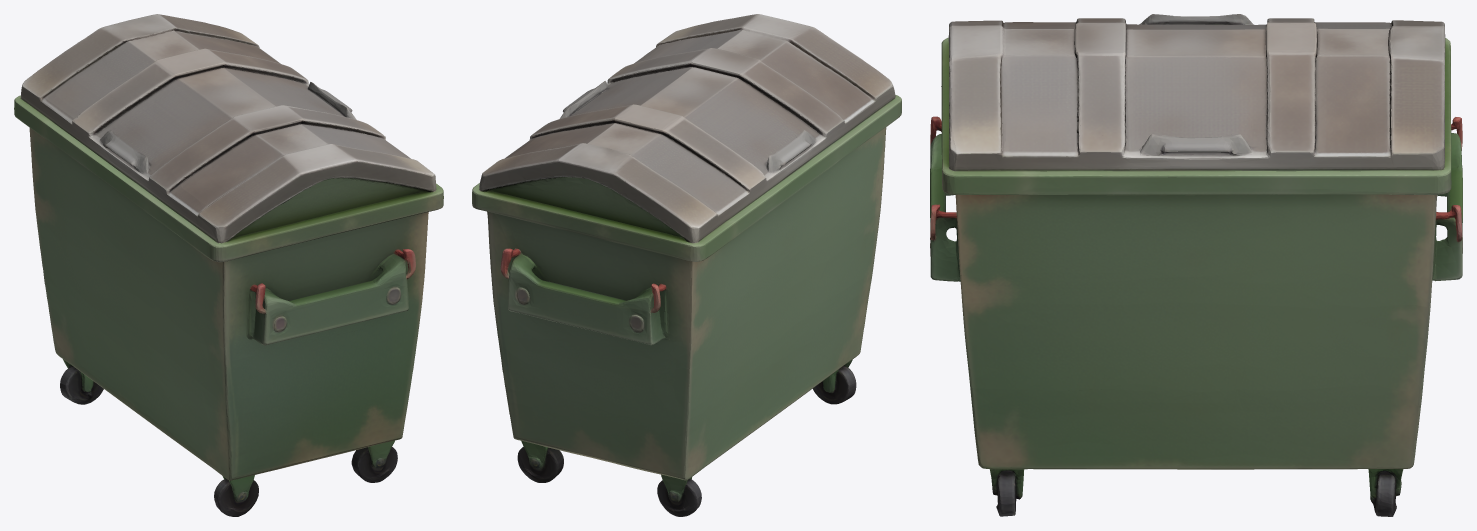
Rendered from dumpster.glb.
The picture shows the model from 3 angles, left to right: view 1: azimuth 30°, elevation 25°; view 2: azimuth 150°, elevation 25°; view 3: azimuth 270°, elevation 25°; orthographic projection. The views are drawn at different scales.
Parts seen in each view (by area): view 1: world; view 2: world; view 3: world.
Boxes of the visible parts, bbox=[...] form: world: bbox=[14, 14, 443, 516]; world: bbox=[472, 14, 901, 516]; world: bbox=[930, 14, 1462, 516].
Bounding box in the file's own units: 0.6238 × 0.9021 × 1.
1 material, 1 textured.
